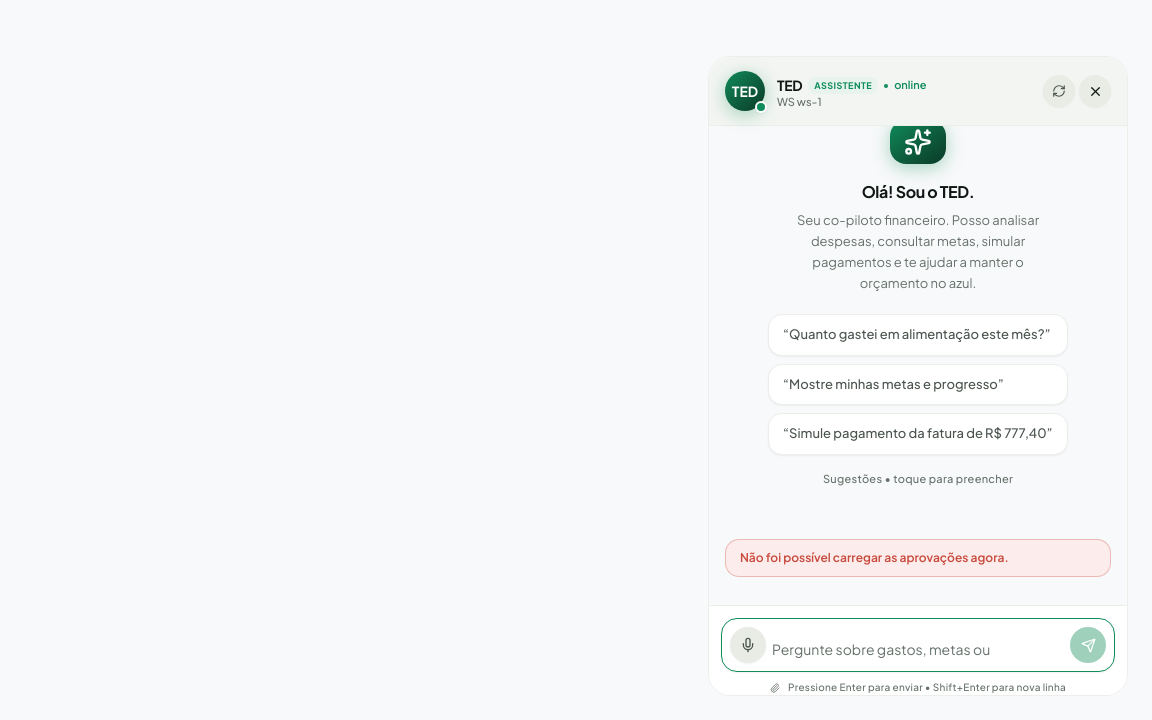
Test: TedChat – ciclo de vida do microfone (SPEC §17, H-08) › cleanup duplo é seguro (parar + fechar + unmount sem exceção)
(page scrolled)
Click the button named "gravar áudio". click: coordinates (748, 645)
box: [730,627,766,663]
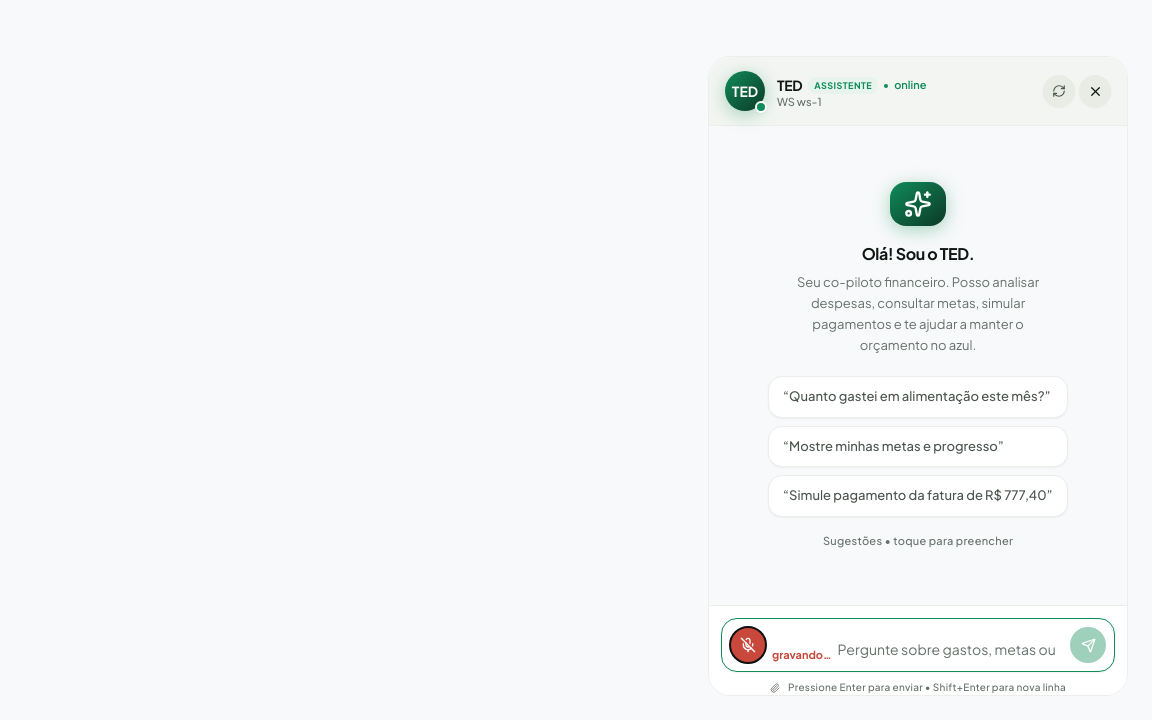
Now the text "gravando…" is shown, box [772,646,832,663]
// Parar via botão (gera anexo de áudio), depois fechar e desmontar.
Click the button named "parar gravação". click: coordinates (748, 645)
box: [730,627,766,663]
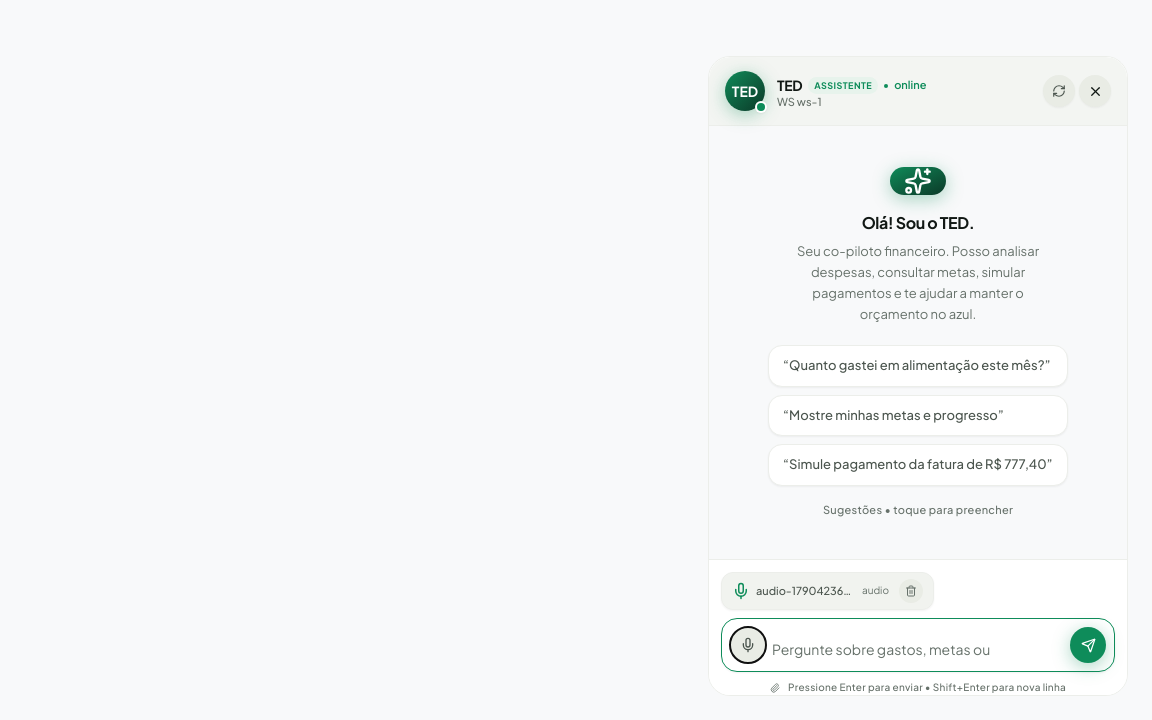
Now the text "gravando" is gone
